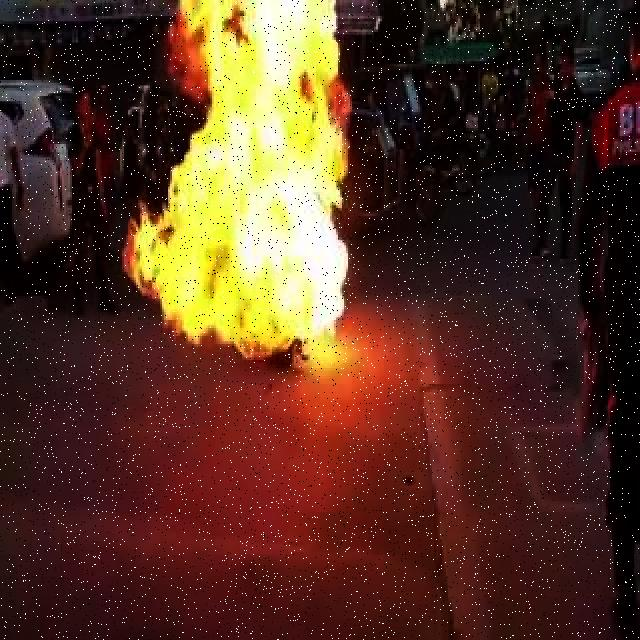fire: (206, 18, 347, 360)
